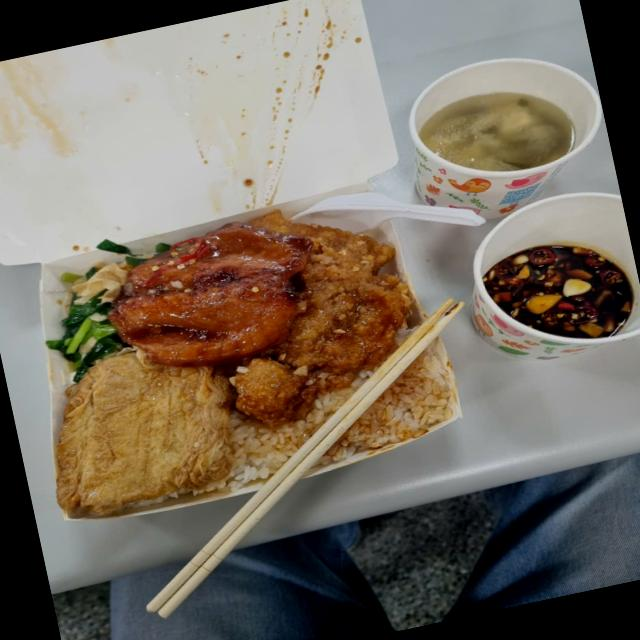ca kho: (110, 223, 312, 365)
com: (311, 337, 460, 467), (209, 372, 367, 492)
ga chien: (249, 210, 409, 389), (230, 357, 332, 421), (230, 358, 303, 423)
nuoc tuong: (483, 245, 633, 338)
rau: (46, 239, 150, 382), (153, 242, 169, 254)
